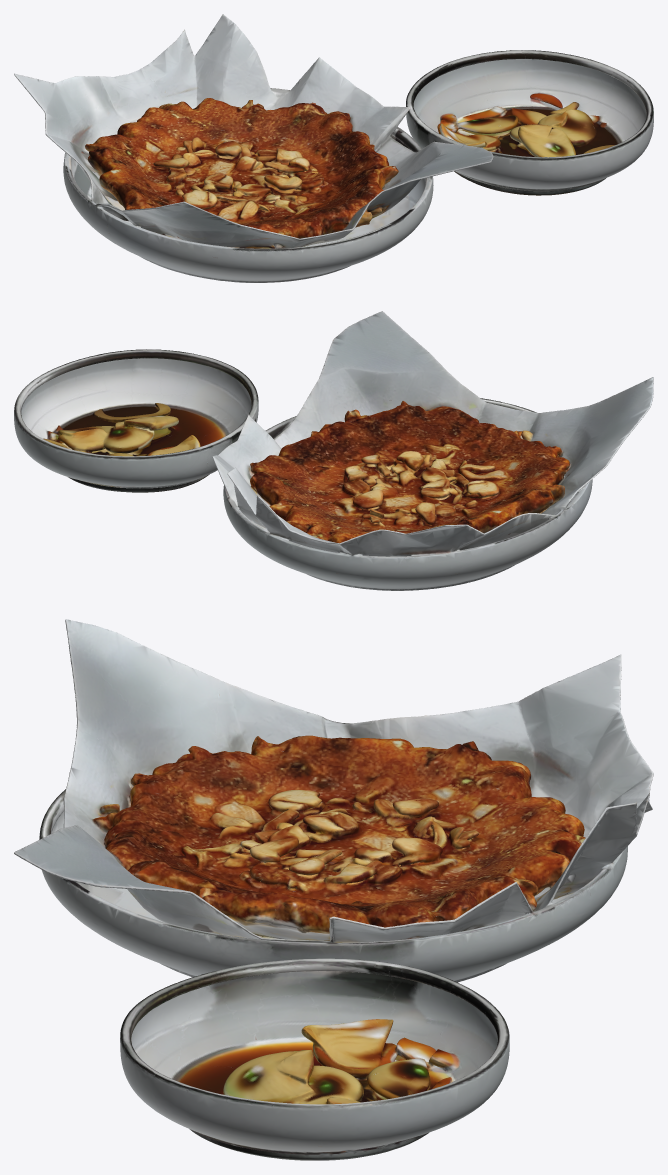
File: almondcrustedcrispy.glb
3 renders of one model, top to bottom at view 1: azimuth 30°, elevation 25°; view 2: azimuth 150°, elevation 25°; view 3: azimuth 270°, elevation 25°, orthographic. The views are drawn at different scales.
Size of the model in its own units: 0.5697 by 0.1243 by 0.3913.
1 material, 1 textured.
